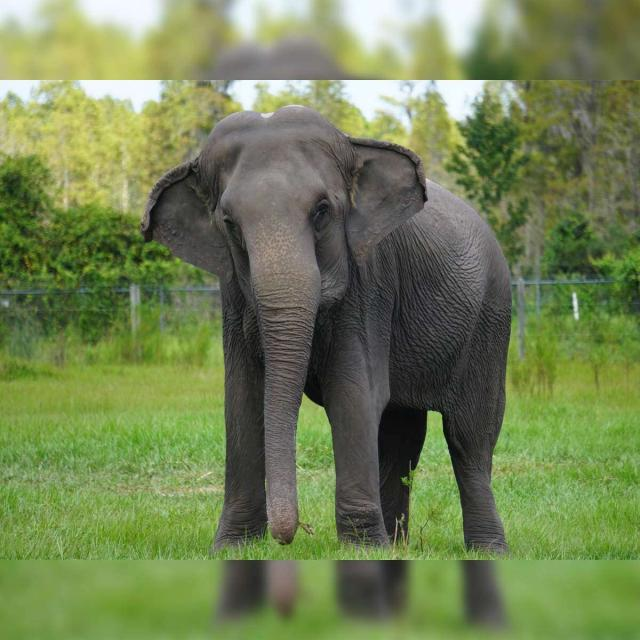Elephant: (134, 106, 541, 556)
